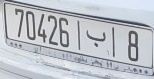0: (25, 10, 37, 40)
2: (47, 14, 59, 46)
4: (37, 12, 48, 43)
6: (58, 17, 70, 48)
7: (12, 7, 25, 40)
8: (124, 29, 142, 63)
b: (85, 27, 107, 49)
